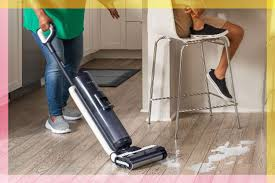Wet-floor: (178, 143, 261, 180)
